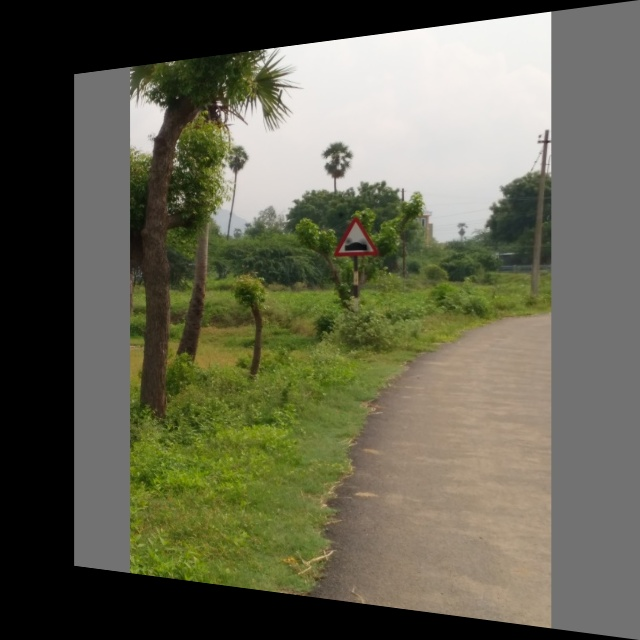Hump_or_Rough_Road: (329, 211, 380, 261)
